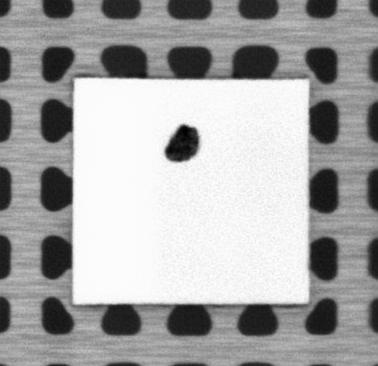DIE_INK: (163, 122, 201, 162)
